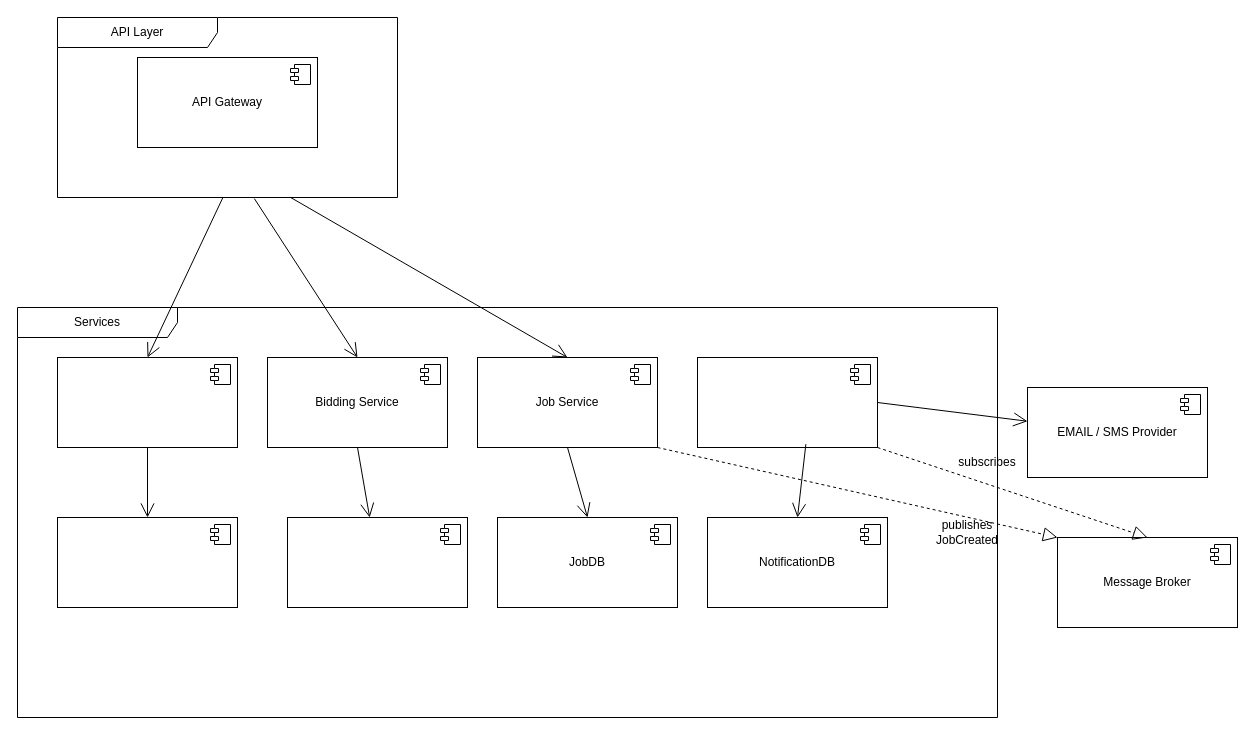
The diagram is 1255 pixels wide and 735 high, and some of its shapes have lost their labels. The centre of each missing label's shape, as x and y in pixels:
"BidDB" goes at [377,562].
"Notification Service" goes at [787,402].
"User DB" goes at [147,562].
"User Service" goes at [147,402].
